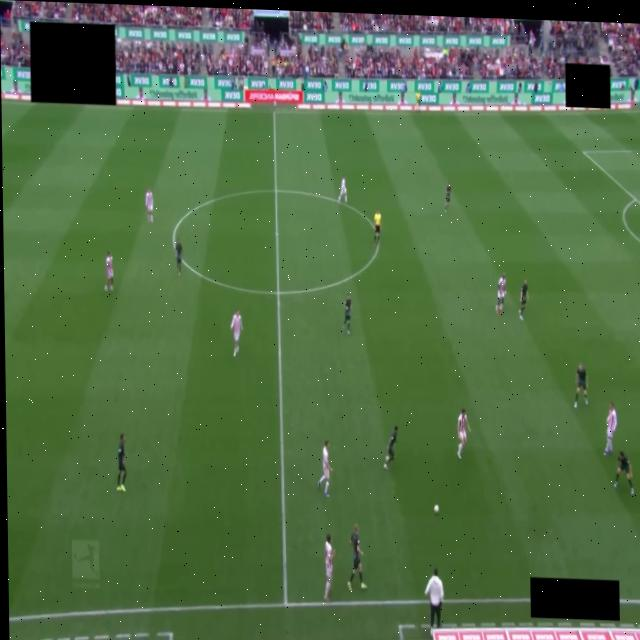ball: (433, 505, 438, 514)
player: (347, 525, 366, 590), (317, 441, 332, 498), (614, 452, 633, 494), (603, 403, 616, 455), (324, 534, 333, 602), (457, 409, 469, 458), (574, 364, 587, 408), (116, 434, 126, 491), (384, 426, 397, 469), (231, 311, 241, 356), (104, 251, 114, 291), (495, 274, 505, 313), (519, 279, 527, 320), (343, 295, 350, 334), (175, 238, 182, 275), (145, 189, 152, 222), (338, 178, 346, 204), (445, 182, 451, 211)
referee: (373, 211, 380, 246)
